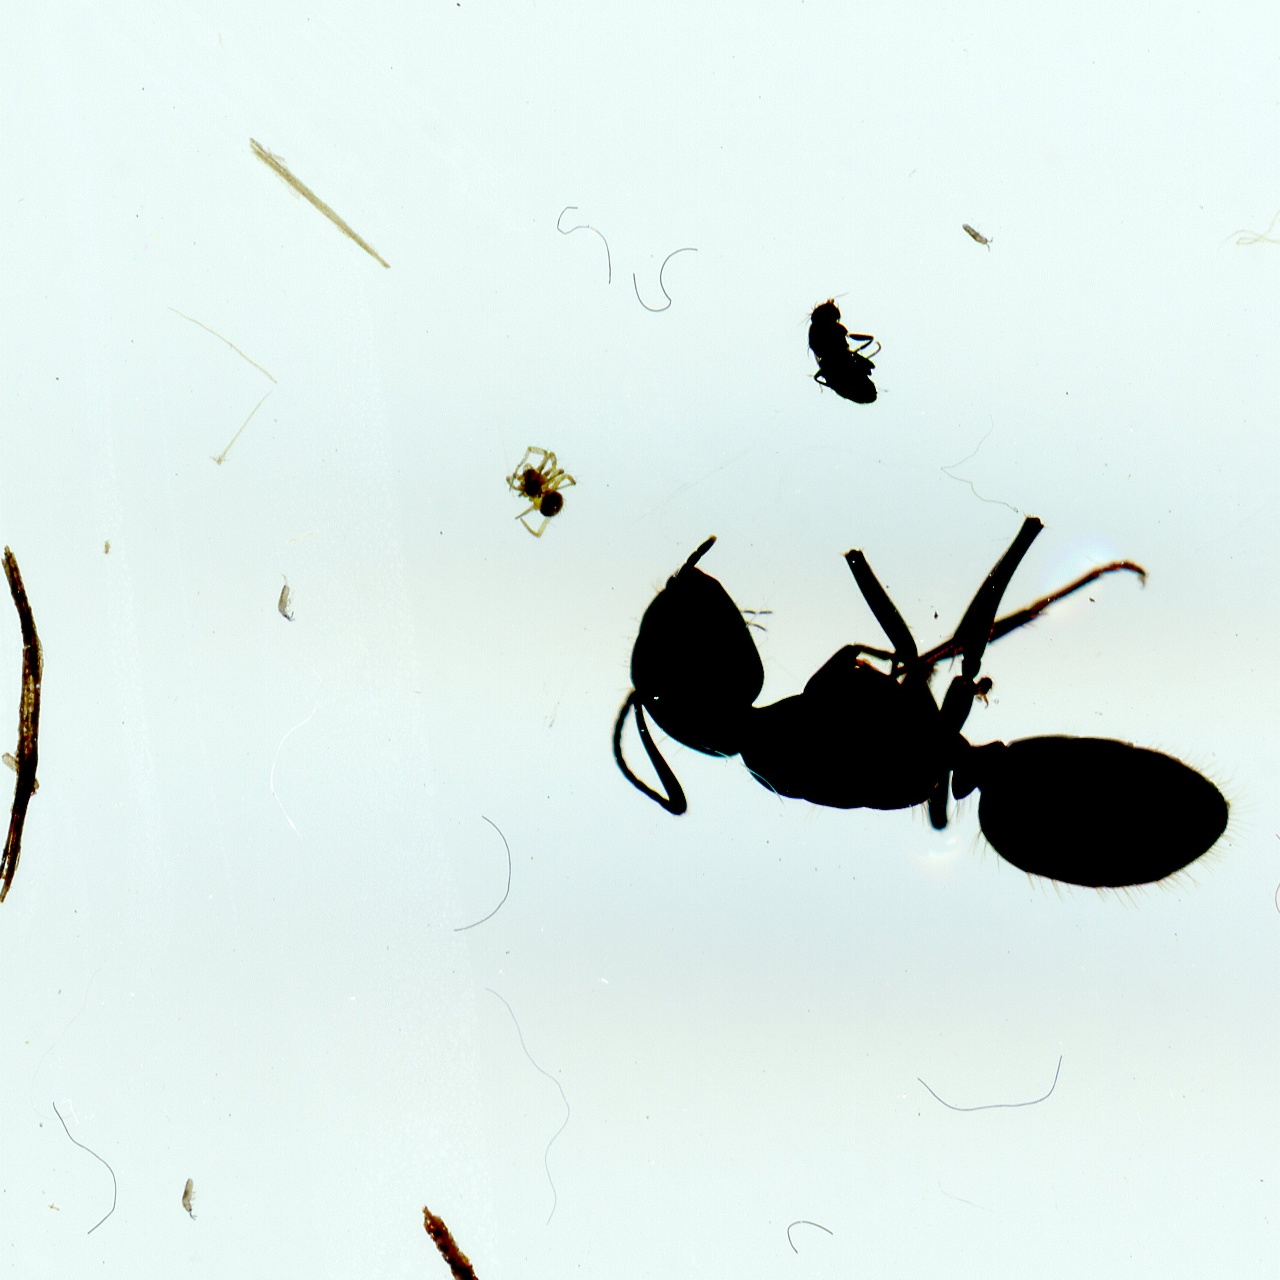arthropod: (600, 492, 1262, 912), (779, 275, 904, 429), (503, 443, 579, 540), (953, 216, 1005, 258), (274, 566, 302, 629), (178, 1176, 206, 1225)
